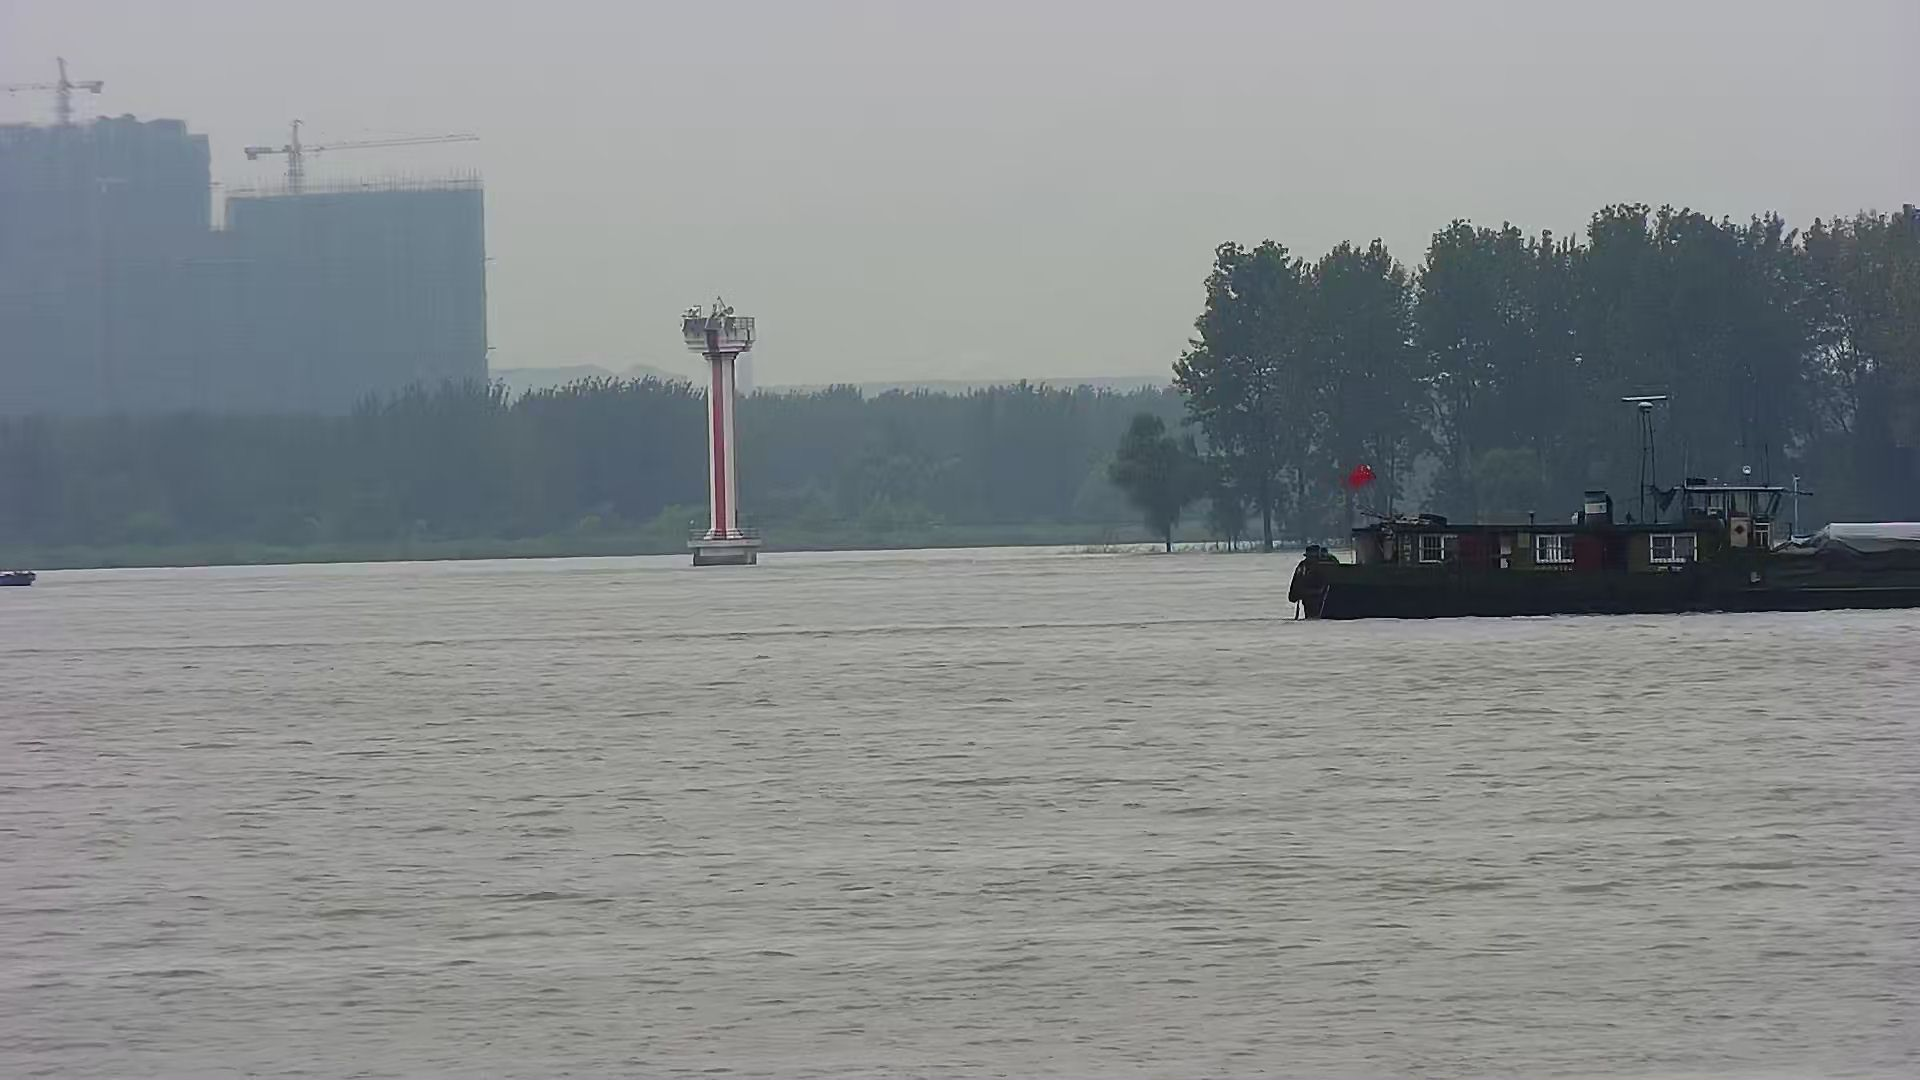boat: (1, 560, 47, 587)
platform: (669, 291, 774, 574)
ship: (1284, 388, 1920, 621)
